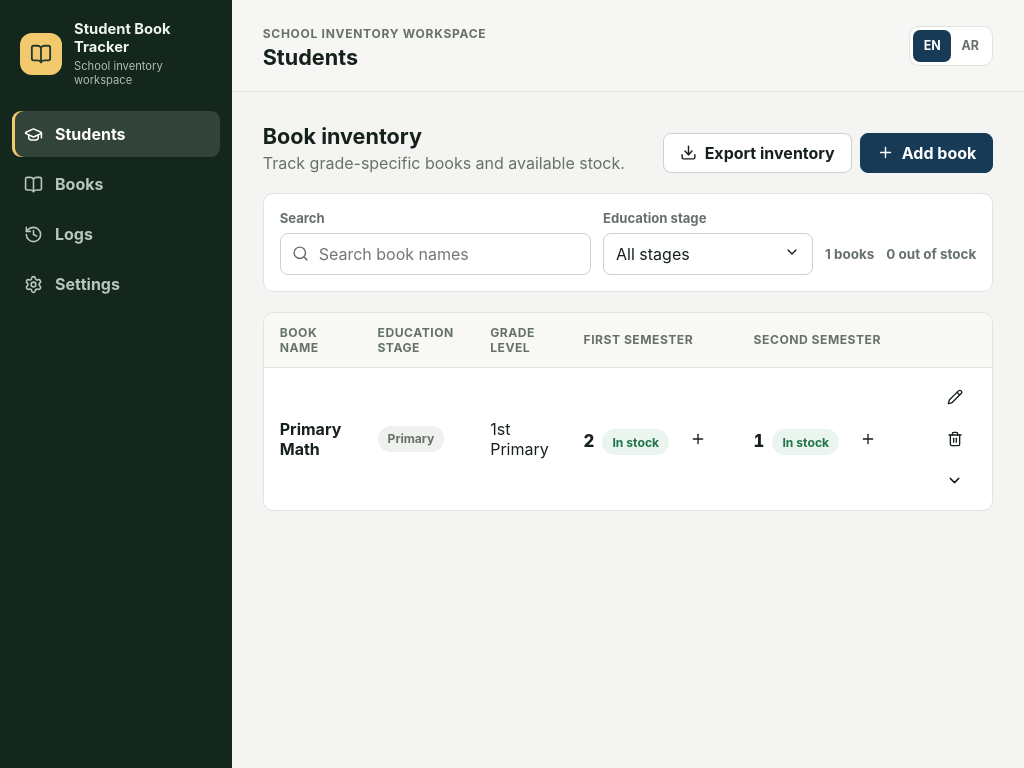
Test case: BooksScreen › expands the entire subject row into a cross-year receipt and issuance audit
The width and height of the screenshot is (1024, 768).
Click the row "Primary Math Primary 1st Primary 2 In stock 1 In stock". click: (628, 439)
box: [264,368,992,510]
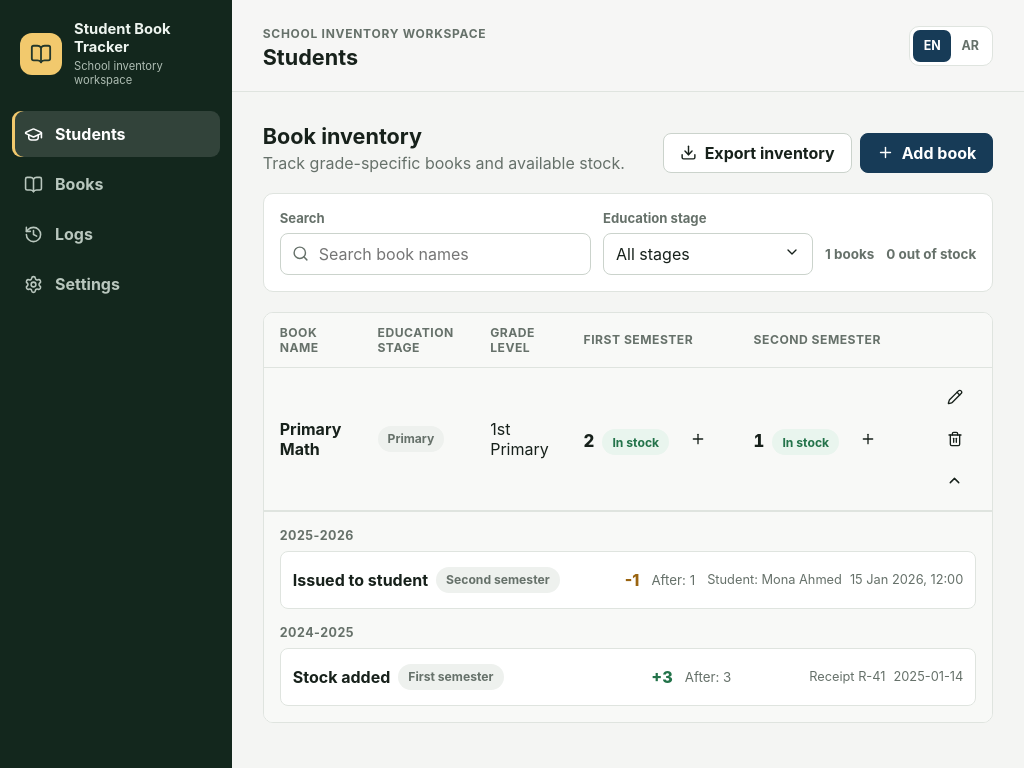
Check: the button named "Expand history for Primary Math" is expanded, box [933,464,976,498]
Check: the heading "2025-2026" is shown, box [280,528,354,543]
Check: the heading "2024-2025" is shown, box [280,625,354,640]
Click the row "Primary Math Primary 1st Primary 2 In stock 1 In stock". click: (628, 439)
box: [264,368,992,511]
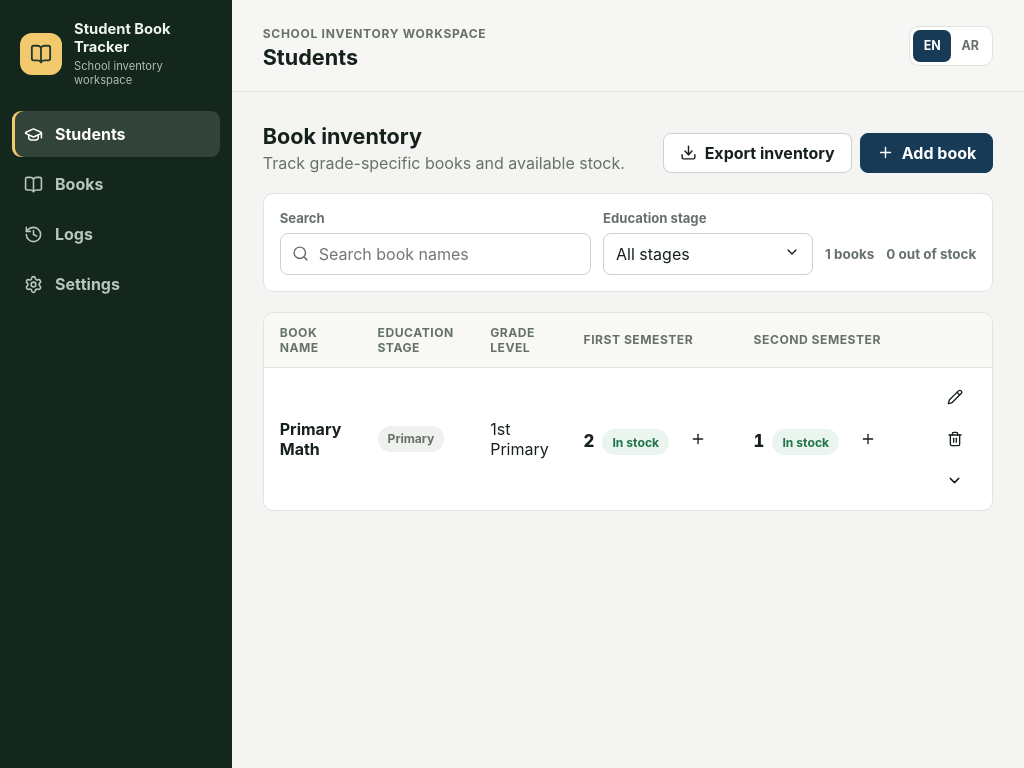
Check: the button named "Expand history for Primary Math" is collapsed, box [933,464,976,498]
Check: the text "Mona Ahmed" is gone
